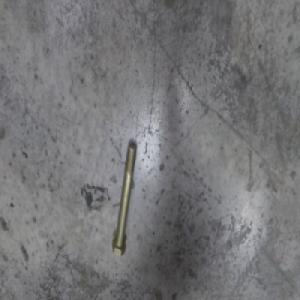Bolt: (110, 143, 136, 263)
